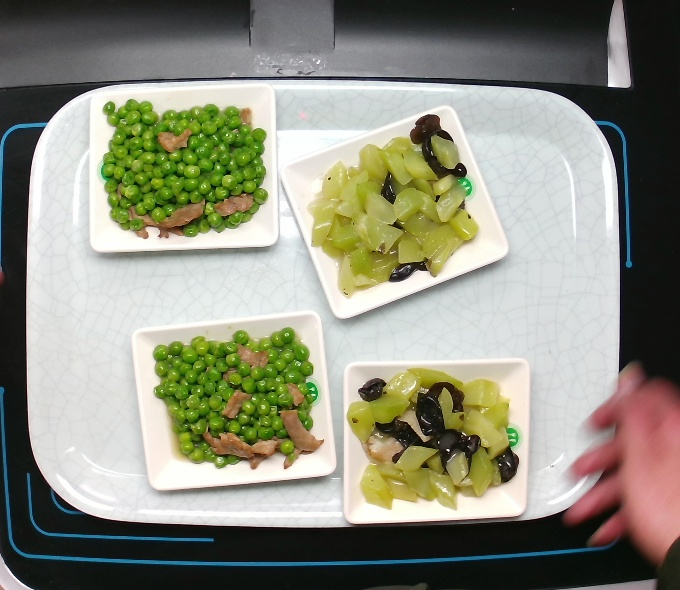wcq-CanDouRouSi: (149, 299, 320, 491), (98, 66, 269, 258)
wcq-WoSunKuai: (305, 109, 484, 295), (339, 363, 530, 523)
